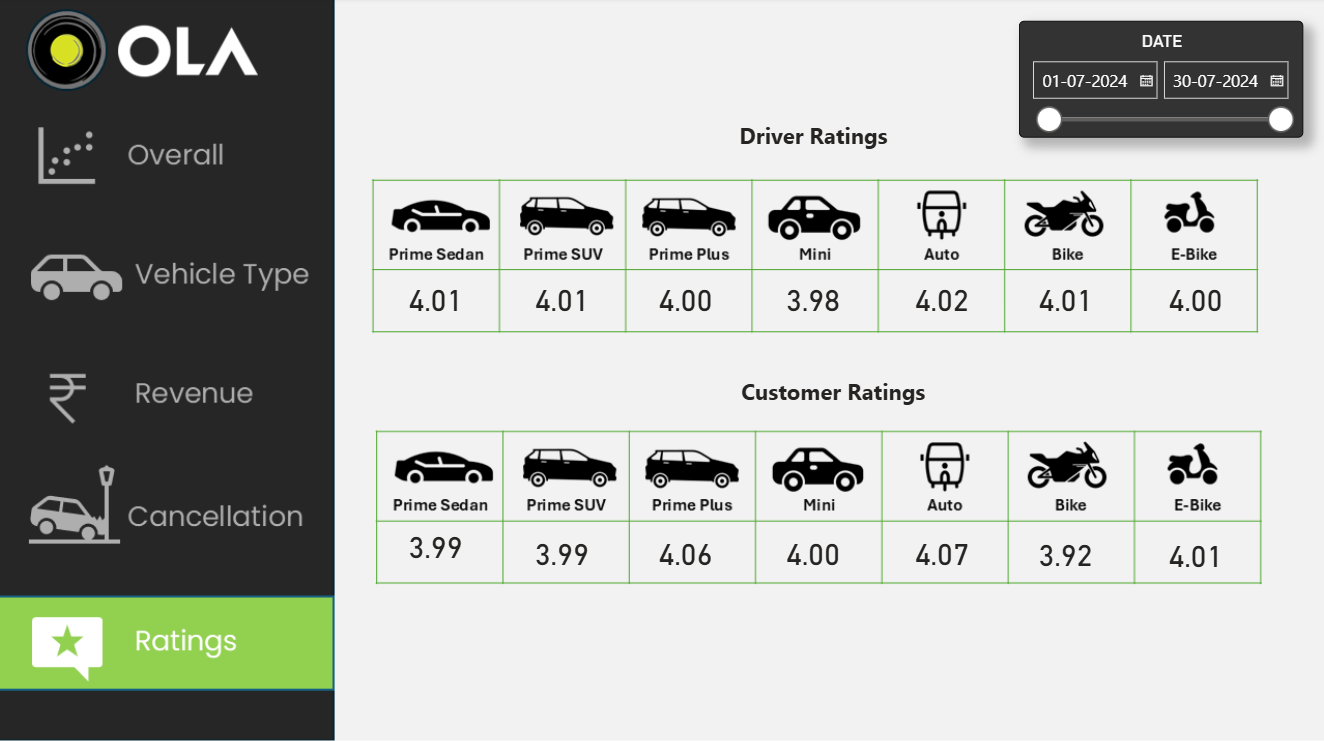

The dashboard page shown, as its layout file describes it:
{"tool":"powerbi","page":{"name":"Ratings","canvas":[1280,720],"ordinal":4},"visuals":[{"type":"actionButton","box":[0,218.2,323.8,90.6],"z":0},{"type":"actionButton","box":[0,113.9,323.8,90.6],"z":1000},{"type":"actionButton","box":[0,336.2,323.8,90.6],"z":2000},{"type":"actionButton","box":[0,451.5,323.8,90.6],"z":3000},{"type":"card","fields":{"Values":["Avg(Bookings-2000-Rows.Driver_Ratings)"]},"box":[376.6,263.4,90.5,56.6],"z":4000},{"type":"card","fields":{"Values":["Avg(Bookings-2000-Rows.Driver_Ratings)"]},"box":[497.8,263.4,90.5,56.6],"z":5000},{"type":"card","fields":{"Values":["Avg(Bookings-2000-Rows.Driver_Ratings)"]},"box":[615.8,263.4,95.4,56.6],"z":6000},{"type":"card","fields":{"Values":["Avg(Bookings-2000-Rows.Driver_Ratings)"]},"box":[740.2,263.4,90.5,56.6],"z":7000},{"type":"card","fields":{"Values":["Avg(Bookings-2000-Rows.Driver_Ratings)"]},"box":[864.6,263.4,90.5,56.6],"z":8000},{"type":"card","fields":{"Values":["Avg(Bookings-2000-Rows.Driver_Ratings)"]},"box":[984.2,263.4,90.5,56.6],"z":9000},{"type":"card","fields":{"Values":["Avg(Bookings-2000-Rows.Driver_Ratings)"]},"box":[1110.3,263.4,90.5,56.6],"z":10000},{"type":"card","fields":{"Values":["Avg(Bookings-2000-Rows.Customer_Rating)"]},"box":[376.6,496.2,90.5,67.9],"z":11000},{"type":"card","fields":{"Values":["Avg(Bookings-2000-Rows.Customer_Rating)"]},"box":[497.8,507.5,90.5,56.6],"z":12000},{"type":"card","fields":{"Values":["Avg(Bookings-2000-Rows.Customer_Rating)"]},"box":[615.8,507.5,95.4,56.6],"z":13000},{"type":"card","fields":{"Values":["Avg(Bookings-2000-Rows.Customer_Rating)"]},"box":[740.2,507.5,90.5,56.6],"z":14000},{"type":"card","fields":{"Values":["Avg(Bookings-2000-Rows.Customer_Rating)"]},"box":[864.6,507.5,90.5,56.6],"z":15000},{"type":"card","fields":{"Values":["Avg(Bookings-2000-Rows.Customer_Rating)"]},"box":[984.2,509.1,90.5,56.6],"z":16000},{"type":"card","fields":{"Values":["Avg(Bookings-2000-Rows.Customer_Rating)"]},"box":[1110.3,510.7,90.5,56.6],"z":17000},{"type":"textbox","box":[543,113.1,486.5,45.3],"z":18000},{"type":"textbox","box":[444.4,360.4,722.4,54.9],"z":19000},{"type":"slicer","title":"DATE","fields":{"Values":["Bookings-2000-Rows.Date"]},"box":[984.2,22.6,274.7,113.1],"z":20000}]}

Visuals, with their boxes in screenshot pixels (x1, y1, x2, y2), scaled from the page's 1280x720 canvas onto the 1324x741 screenshot:
actionButton: [left=0, top=225, right=335, bottom=318]
actionButton: [left=0, top=117, right=335, bottom=210]
actionButton: [left=0, top=346, right=335, bottom=439]
actionButton: [left=0, top=465, right=335, bottom=558]
card - Avg(Bookings-2000-Rows.Driver_Ratings): [left=390, top=271, right=483, bottom=329]
card - Avg(Bookings-2000-Rows.Driver_Ratings): [left=515, top=271, right=609, bottom=329]
card - Avg(Bookings-2000-Rows.Driver_Ratings): [left=637, top=271, right=736, bottom=329]
card - Avg(Bookings-2000-Rows.Driver_Ratings): [left=766, top=271, right=859, bottom=329]
card - Avg(Bookings-2000-Rows.Driver_Ratings): [left=894, top=271, right=988, bottom=329]
card - Avg(Bookings-2000-Rows.Driver_Ratings): [left=1018, top=271, right=1112, bottom=329]
card - Avg(Bookings-2000-Rows.Driver_Ratings): [left=1148, top=271, right=1242, bottom=329]
card - Avg(Bookings-2000-Rows.Customer_Rating): [left=390, top=511, right=483, bottom=581]
card - Avg(Bookings-2000-Rows.Customer_Rating): [left=515, top=522, right=609, bottom=581]
card - Avg(Bookings-2000-Rows.Customer_Rating): [left=637, top=522, right=736, bottom=581]
card - Avg(Bookings-2000-Rows.Customer_Rating): [left=766, top=522, right=859, bottom=581]
card - Avg(Bookings-2000-Rows.Customer_Rating): [left=894, top=522, right=988, bottom=581]
card - Avg(Bookings-2000-Rows.Customer_Rating): [left=1018, top=524, right=1112, bottom=582]
card - Avg(Bookings-2000-Rows.Customer_Rating): [left=1148, top=526, right=1242, bottom=584]
textbox: [left=562, top=116, right=1065, bottom=163]
textbox: [left=460, top=371, right=1207, bottom=427]
"DATE" slicer: [left=1018, top=23, right=1302, bottom=140]
